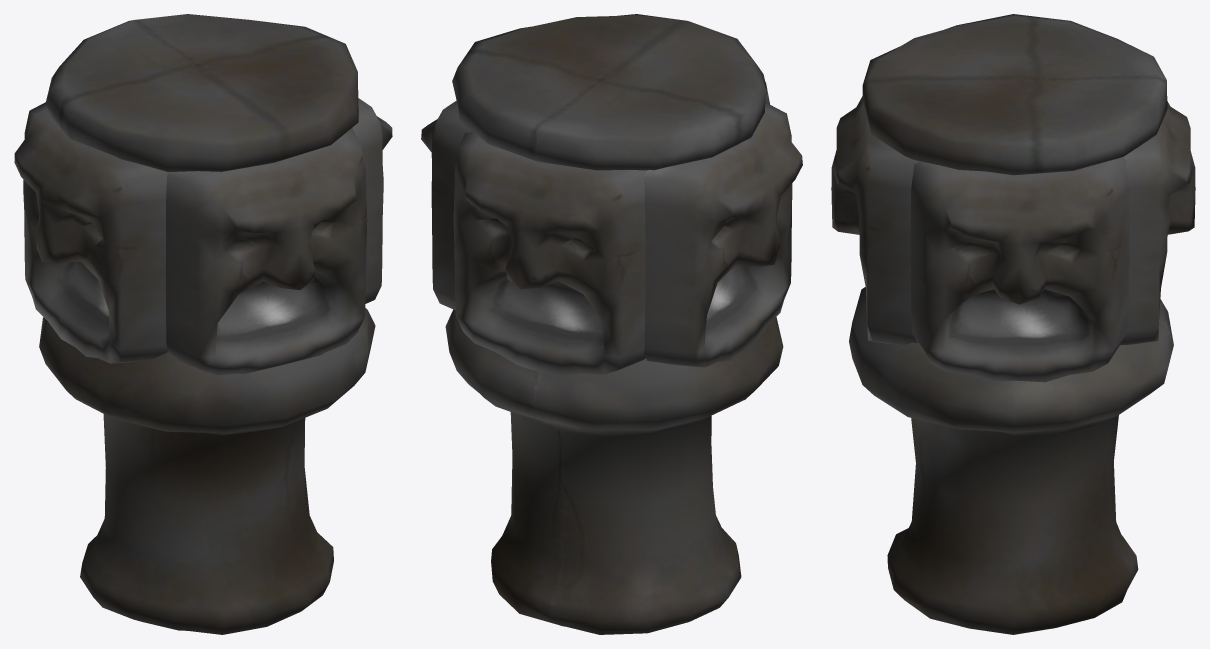
File: TotemPole.dae
The picture shows the model from 3 angles, left to right: view 1: azimuth 30°, elevation 25°; view 2: azimuth 150°, elevation 25°; view 3: azimuth 270°, elevation 25°; orthographic projection.
Visible parts, largest first — view 1: polySurface1; view 2: polySurface1; view 3: polySurface1.
Boxes of the visible parts, bbox=[...] form: polySurface1: bbox=[14, 14, 392, 634]; polySurface1: bbox=[421, 14, 802, 634]; polySurface1: bbox=[831, 14, 1195, 634].
Bounding box in the file's own units: 1.98 × 2.99 × 1.93.
